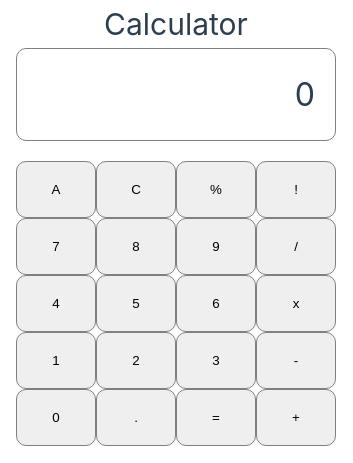
Calculator › when I click in number and !, should be shown n! and the =, get result
The image size is (353, 463).
Click the button "5" at (136, 304), box left=96, top=275, right=176, bottom=332
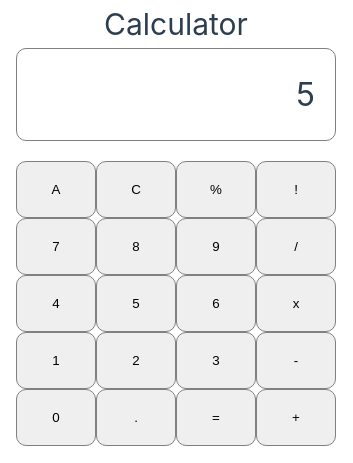
Click the button "!" at (296, 190), box left=256, top=161, right=336, bottom=218
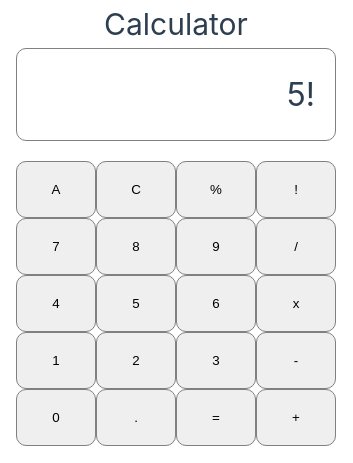
Click the button "=" at (216, 418), box left=176, top=389, right=256, bottom=446
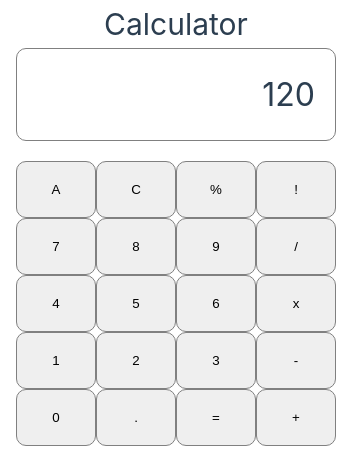
Result: the text with class "display" reads "120" at left=262, top=75, right=315, bottom=114
